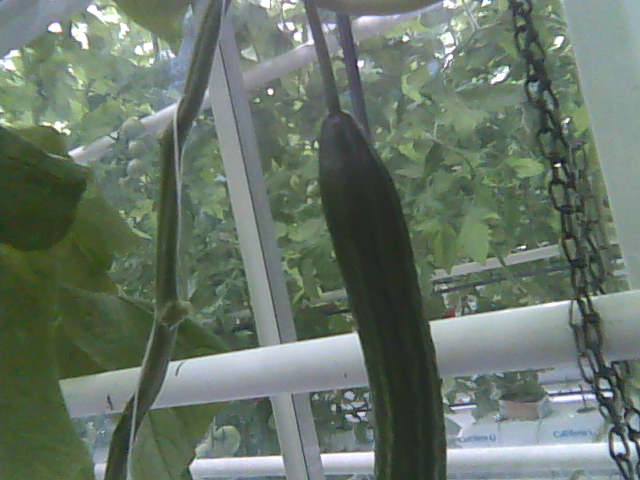concombre: (317, 103, 452, 480)
